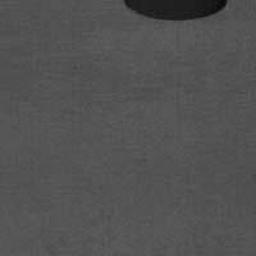Punching: (125, 0, 229, 20)
